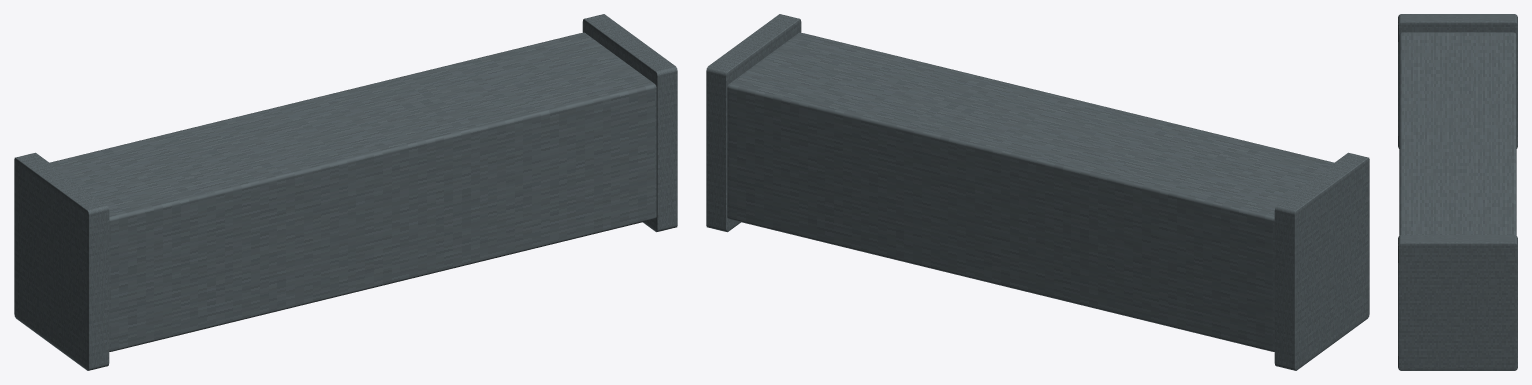
File: closer.glb
The picture shows the model from 3 angles, left to right: view 1: azimuth 30°, elevation 25°; view 2: azimuth 150°, elevation 25°; view 3: azimuth 270°, elevation 25°; orthographic projection. The views are drawn at different scales.
Visible parts, largest first — view 1: duct, flange (×2); view 2: duct, flange (×2); view 3: duct, flange (×2).
Boxes of the visible parts, x1,y1,x2,y2 form: duct: (50,32,656,351); flange (×2): (14,14,677,370); duct: (727,32,1333,351); flange (×2): (706,14,1369,370); duct: (1399,32,1516,235); flange (×2): (1398,14,1517,370).
Size of the model in its own units: 0.2487 by 0.065 by 0.055.
Materials: 1 (1 with a texture image).
